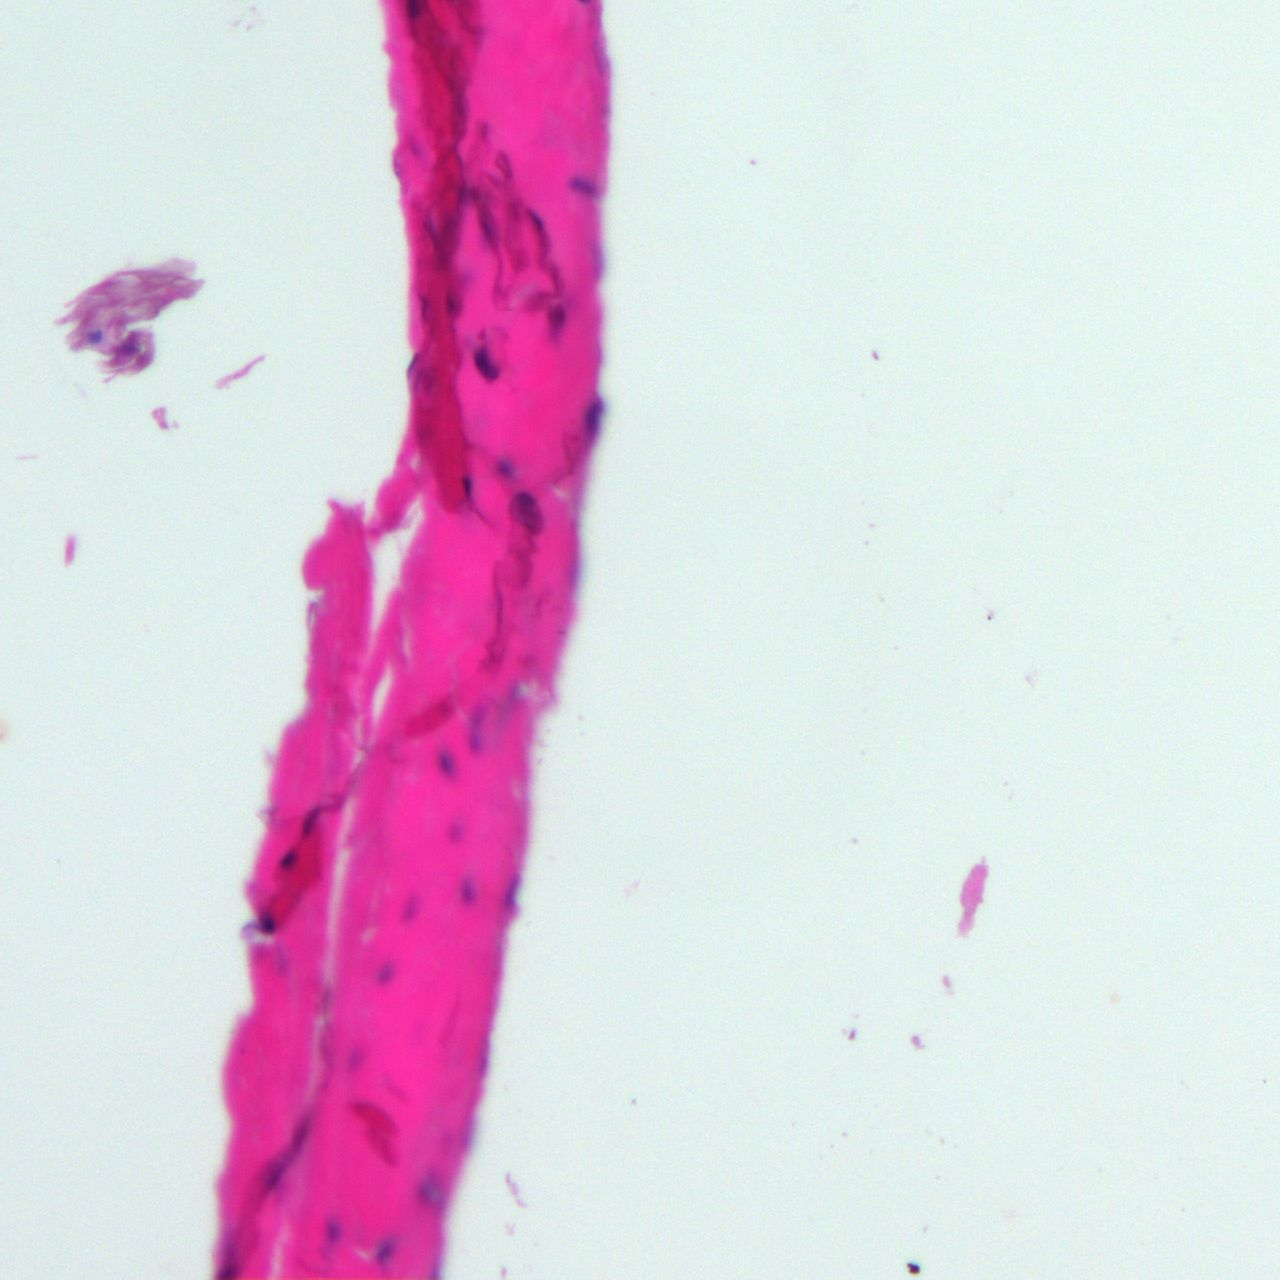dust: (907, 1262, 920, 1274)
nucleus-HE: (259, 1105, 319, 1189), (506, 488, 546, 537), (576, 393, 610, 437), (471, 342, 499, 384), (298, 804, 324, 836), (501, 871, 520, 910), (568, 175, 600, 197), (373, 1233, 396, 1262), (433, 745, 455, 776), (399, 894, 420, 924), (402, 352, 424, 377), (547, 306, 564, 339), (525, 204, 544, 231), (481, 215, 496, 245), (445, 821, 467, 840), (375, 962, 394, 983), (496, 457, 515, 477), (345, 1046, 361, 1068), (326, 1217, 340, 1242), (258, 914, 274, 933), (462, 878, 474, 903), (279, 847, 294, 866), (417, 293, 429, 315), (86, 329, 102, 342), (461, 474, 471, 493), (445, 292, 456, 309)
